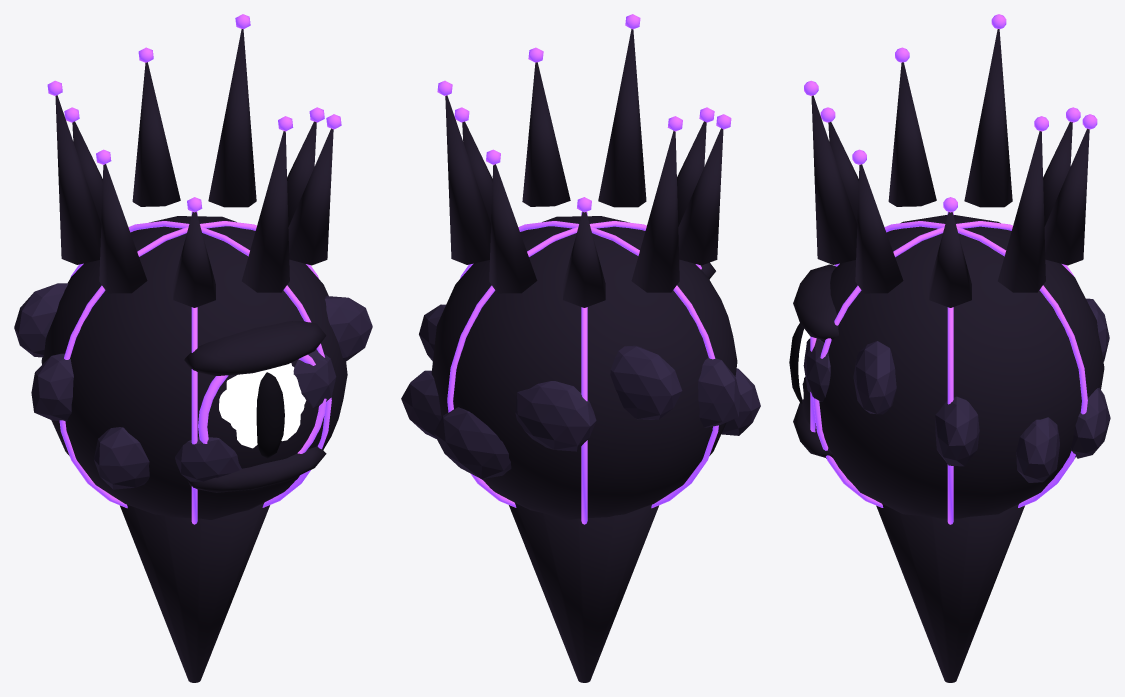
The model's file is boss_ultimate_shell.glb.
3 renders of one model, left to right at view 1: azimuth 30°, elevation 25°; view 2: azimuth 150°, elevation 25°; view 3: azimuth 270°, elevation 25°, orthographic.
Parts seen in each view (by area): view 1: Icosphere; view 2: Icosphere; view 3: Icosphere.
Boxes of the visible parts, bbox=[...] form: Icosphere: bbox=[14, 14, 372, 682]; Icosphere: bbox=[401, 14, 760, 682]; Icosphere: bbox=[789, 14, 1110, 682].
Bounding box in the file's own units: 2.98 × 5.47 × 2.61.
